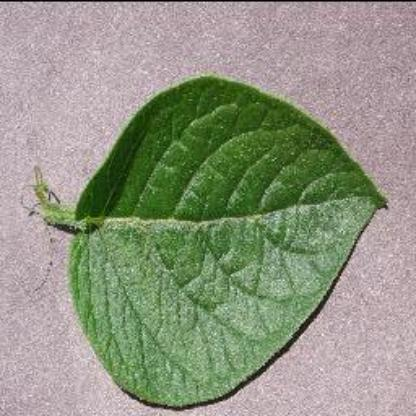Healthy-plant: (32, 74, 392, 408)
